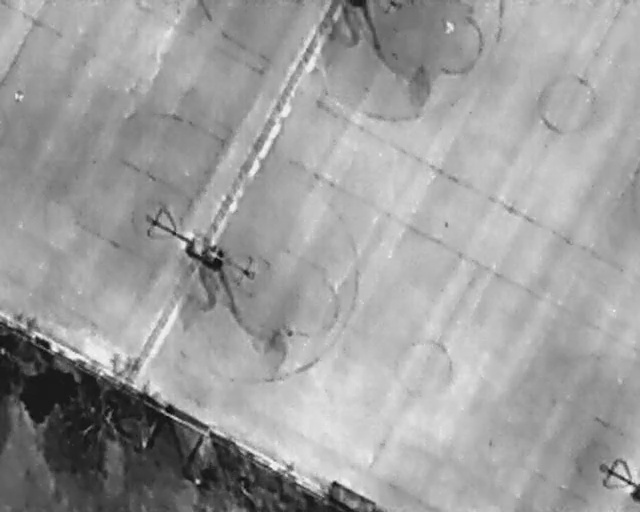Person: (442, 18, 455, 37), (14, 90, 23, 104)
